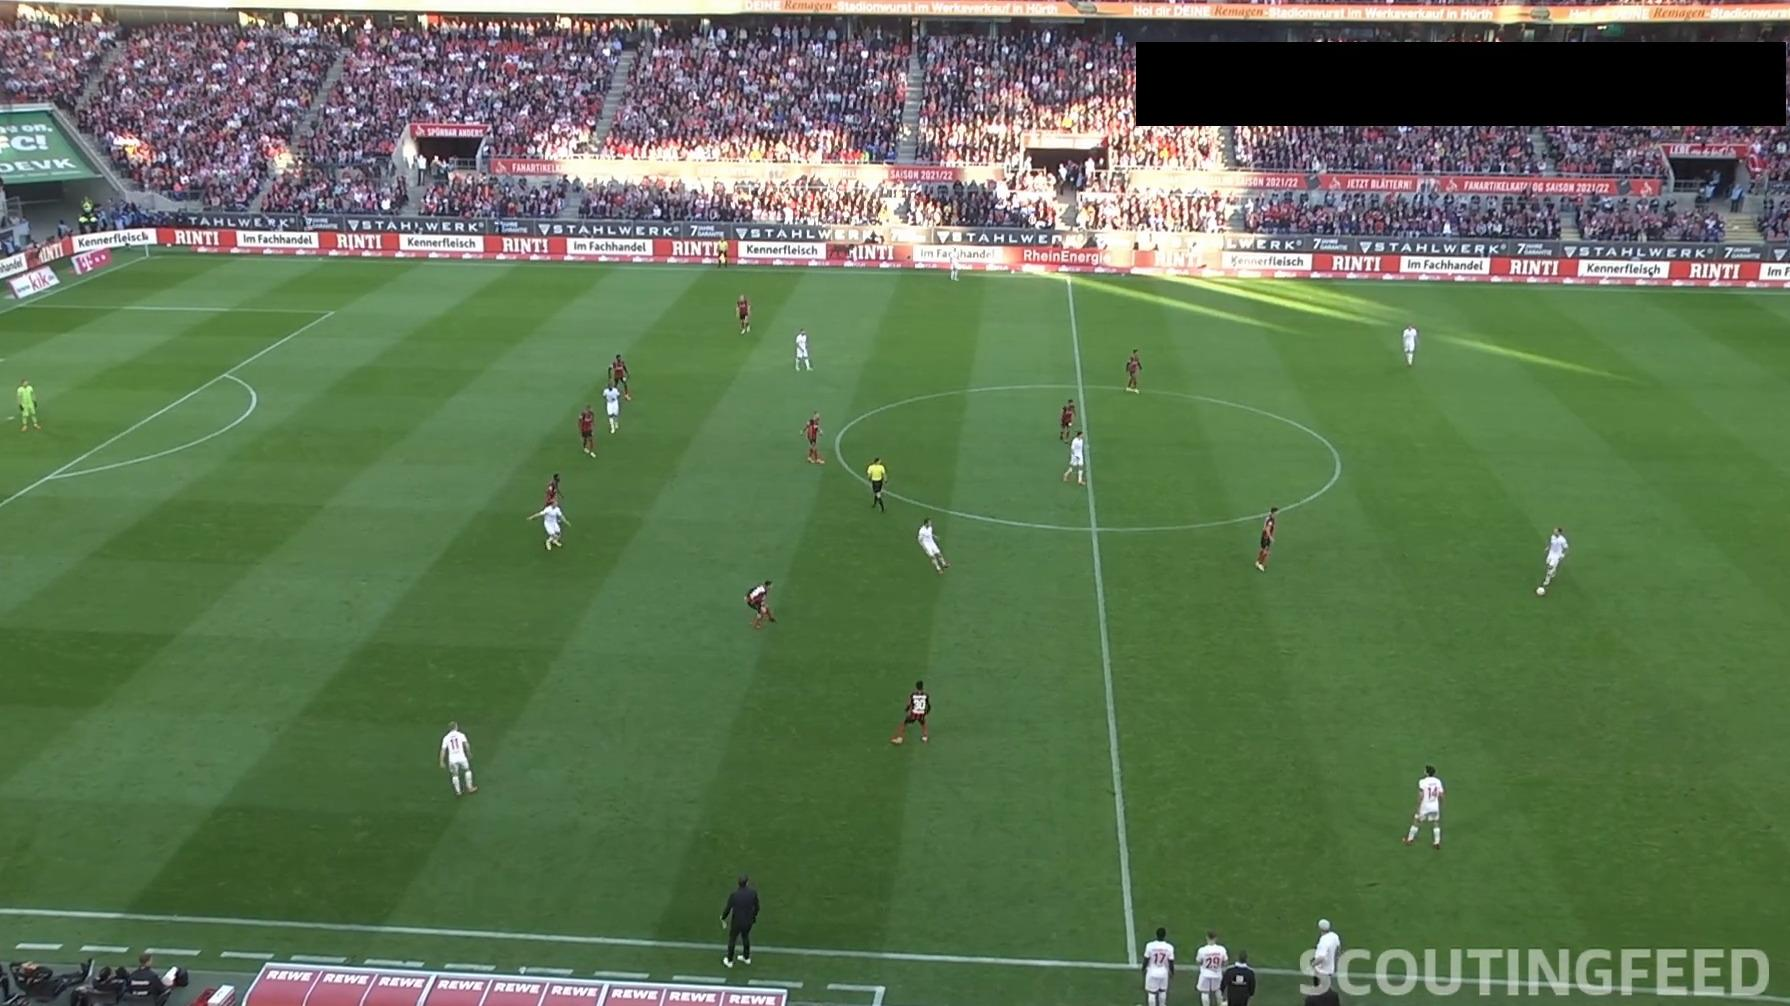ball: (1536, 585, 1547, 596)
